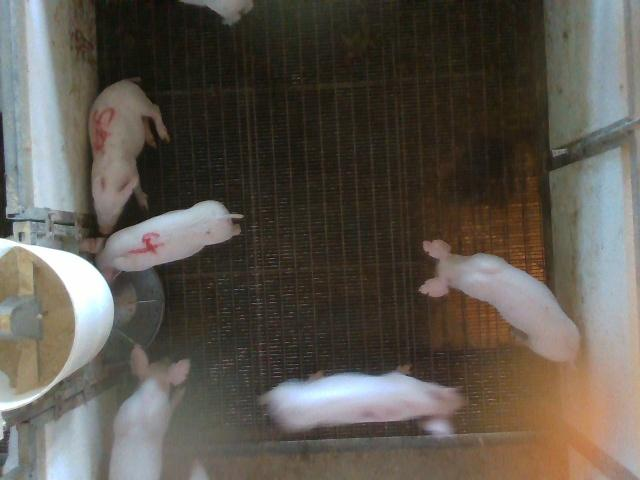pig-4: (81, 200, 241, 282)
pig-5: (89, 80, 170, 234)
